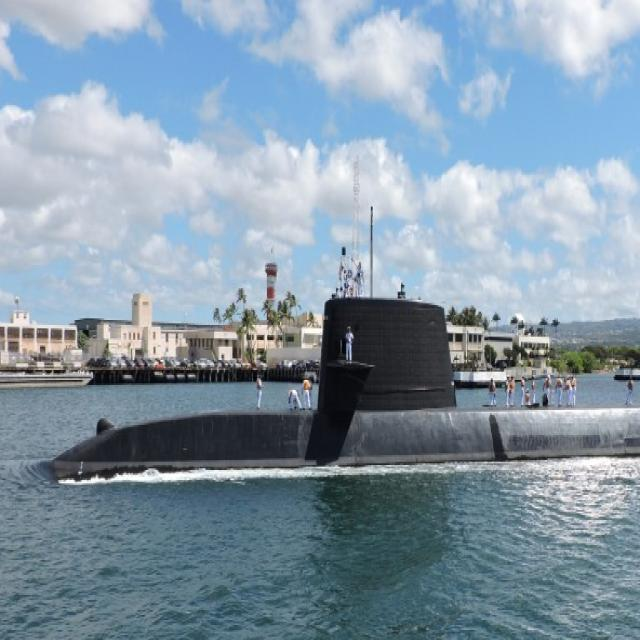submarine: (43, 296, 640, 493)
